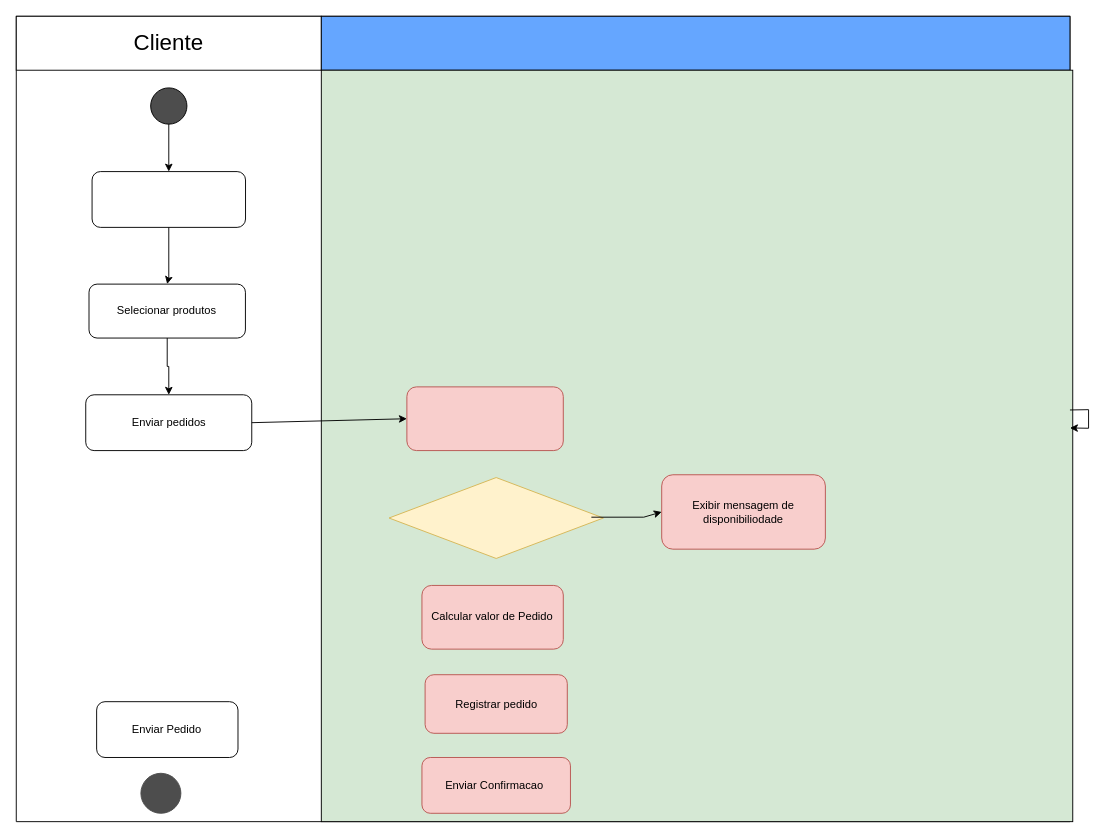
The diagram is 1112 pixels wide and 838 high, and some of its shapes have lost their labels. The centre of each missing label's shape, as x and y in pixels:
"Acessar os sistema" goes at [168,199].
"Produtos Disponiveis" goes at [495,517].
"Sistema" goes at [695,42].
"Verificar Disponibilidade" goes at [484,418].
